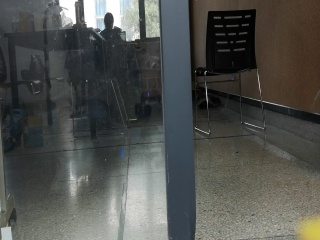room: (3, 3, 310, 237)
